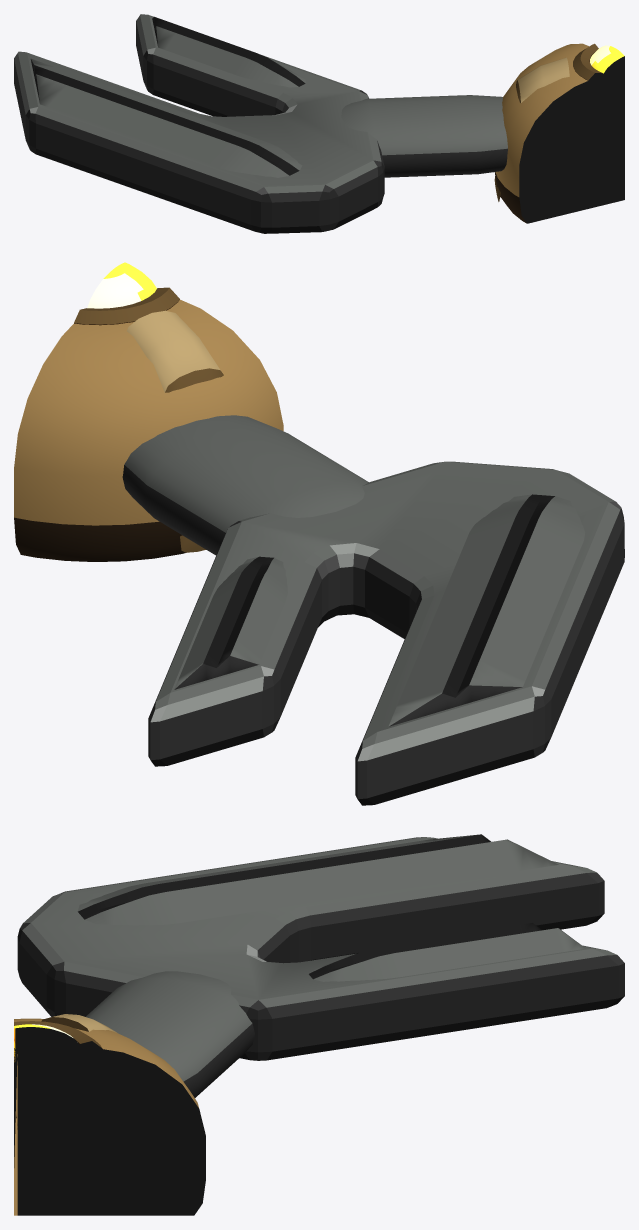
Rendered from spin_claw_13.glb.
The picture shows the model from 3 angles, top to bottom: view 1: azimuth 30°, elevation 25°; view 2: azimuth 150°, elevation 25°; view 3: azimuth 270°, elevation 25°; orthographic projection. The views are drawn at different scales.
Parts seen in each view (by area): view 1: spin_claw_13_arm3_plate, spin_claw_13_hub_dome, spin_claw_13_arm3_rod, spin_claw_13_arm3_ridge0, spin_claw_13_arm3_ridge1, spin_claw_13_hub_rib3, spin_claw_13_hub_lens, spin_claw_13_hub_bezel; view 2: spin_claw_13_arm3_plate, spin_claw_13_hub_dome, spin_claw_13_arm3_ridge0, spin_claw_13_arm3_rod, spin_claw_13_arm3_ridge1, spin_claw_13_hub_rib3, spin_claw_13_hub_lens, spin_claw_13_hub_bezel; view 3: spin_claw_13_arm3_plate, spin_claw_13_hub_dome, spin_claw_13_arm3_ridge0, spin_claw_13_arm3_rod, spin_claw_13_arm3_ridge1, spin_claw_13_hub_lens, spin_claw_13_hub_bezel, spin_claw_13_hub_rib3.
Boxes of the visible parts, x1,y1,x2,y2 form: spin_claw_13_arm3_plate: (14, 14, 384, 233); spin_claw_13_hub_dome: (494, 43, 624, 223); spin_claw_13_arm3_rod: (341, 95, 507, 177); spin_claw_13_arm3_ridge0: (30, 58, 302, 177); spin_claw_13_arm3_ridge1: (152, 16, 305, 87); spin_claw_13_hub_rib3: (494, 57, 569, 201); spin_claw_13_hub_lens: (590, 45, 624, 88); spin_claw_13_hub_bezel: (573, 43, 624, 87); spin_claw_13_arm3_plate: (148, 461, 624, 805); spin_claw_13_hub_dome: (14, 299, 283, 561); spin_claw_13_arm3_ridge0: (388, 494, 584, 726); spin_claw_13_arm3_rod: (122, 415, 368, 555); spin_claw_13_arm3_ridge1: (174, 556, 287, 689); spin_claw_13_hub_rib3: (127, 310, 223, 552); spin_claw_13_hub_lens: (87, 262, 156, 308); spin_claw_13_hub_bezel: (74, 287, 179, 325); spin_claw_13_arm3_plate: (17, 837, 624, 1060); spin_claw_13_hub_dome: (14, 1018, 205, 1215); spin_claw_13_arm3_ridge0: (77, 834, 558, 925); spin_claw_13_arm3_rod: (86, 971, 254, 1097); spin_claw_13_arm3_ridge1: (309, 923, 585, 981); spin_claw_13_hub_lens: (14, 1024, 81, 1063); spin_claw_13_hub_bezel: (14, 1021, 102, 1060); spin_claw_13_hub_rib3: (41, 1014, 116, 1032).
Size of the model in its own units: 19.53 by 6.19 by 18.16.
